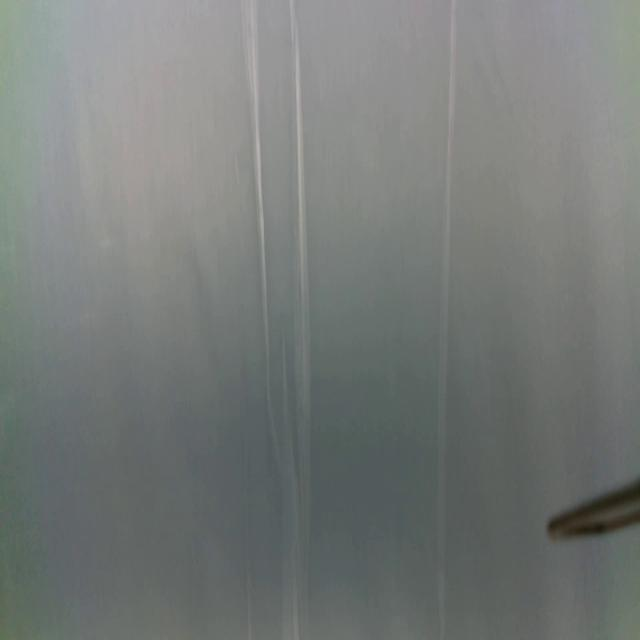crease: (433, 1, 459, 640), (243, 0, 278, 466), (288, 0, 312, 624), (281, 338, 297, 638)
